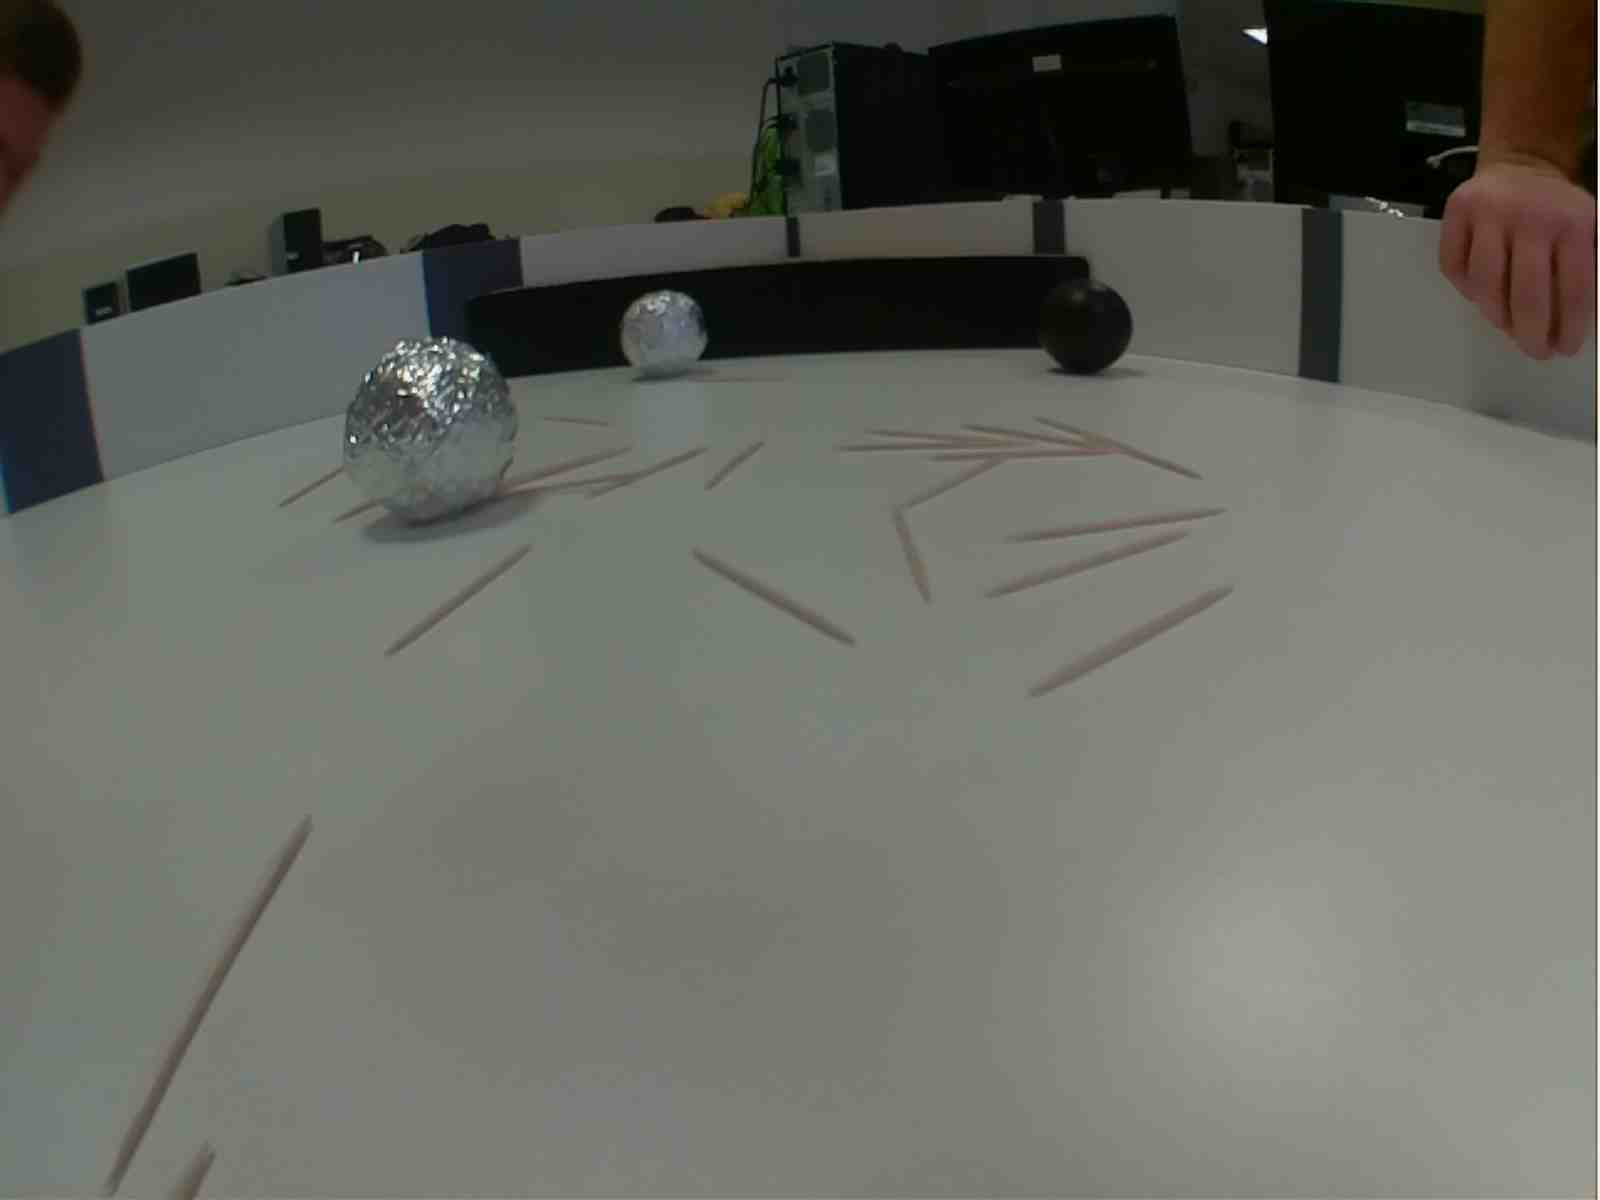bianca: (345, 337, 528, 523), (614, 290, 711, 378)
nera: (1036, 276, 1136, 374)
